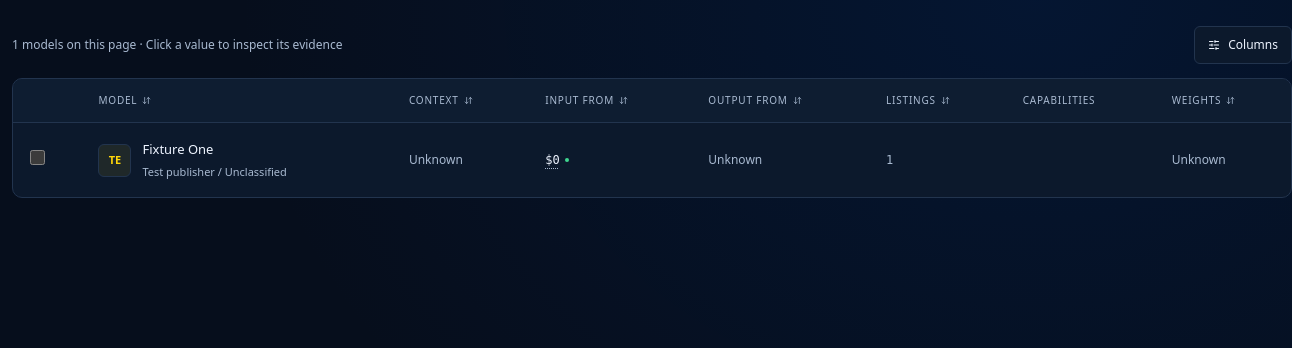
Test: lets the user select a model for comparison and distinguishes free from unknown
Check: the text "$0" is shown, box [545,151,560,169]
Click the checkbox named "Compare Fixture One": {"x": 38, "y": 158} [30,150,45,165]
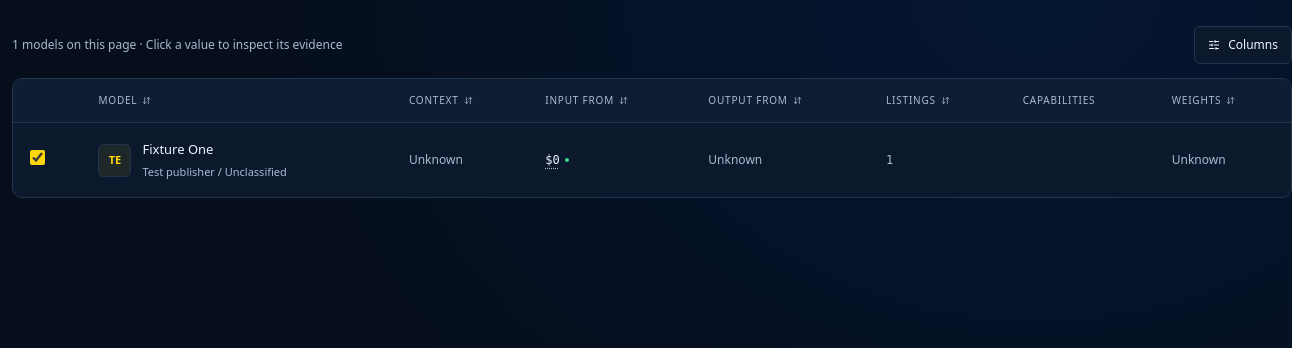
Check: the checkbox named "Compare Fixture One" is checked, box [30,150,45,165]
